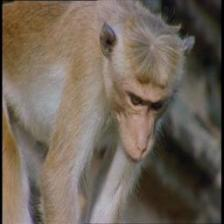monkey: (91, 0, 205, 172)
